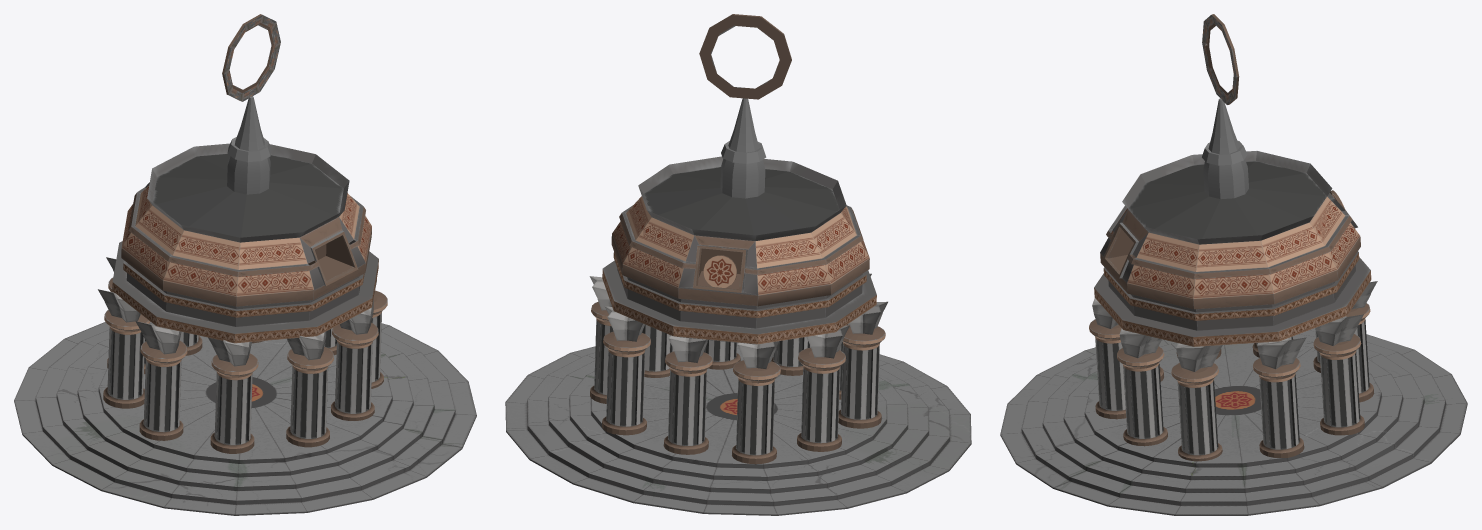
The model's file is Temple.fbx.
The picture shows the model from 3 angles, left to right: view 1: azimuth 30°, elevation 25°; view 2: azimuth 150°, elevation 25°; view 3: azimuth 270°, elevation 25°; orthographic projection.
Visible parts, largest first — view 1: polySurface602, pasted__polySurface158; view 2: polySurface602, pasted__polySurface158, polySurface601; view 3: polySurface602, pasted__polySurface158.
Part boxes in pixels (x1,y1,x2,y2): polySurface602: [98, 14, 387, 453]; pasted__polySurface158: [14, 322, 476, 515]; polySurface602: [589, 14, 887, 464]; pasted__polySurface158: [505, 342, 971, 515]; polySurface601: [699, 15, 791, 99]; polySurface602: [1089, 14, 1377, 461]; pasted__polySurface158: [1000, 328, 1467, 515].
Size of the model in its own units: 346 by 335 by 345.
